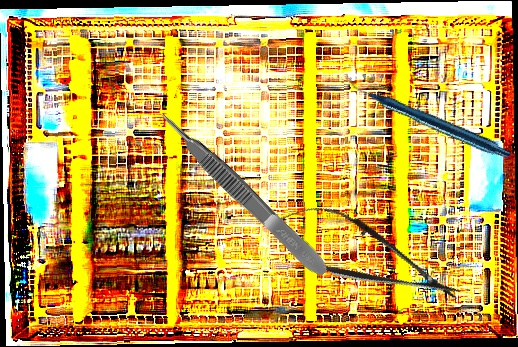Handpiece: (346, 25, 513, 208)
Micro Scissor: (257, 185, 473, 324)
Tissue Forceps: (155, 105, 333, 282)
